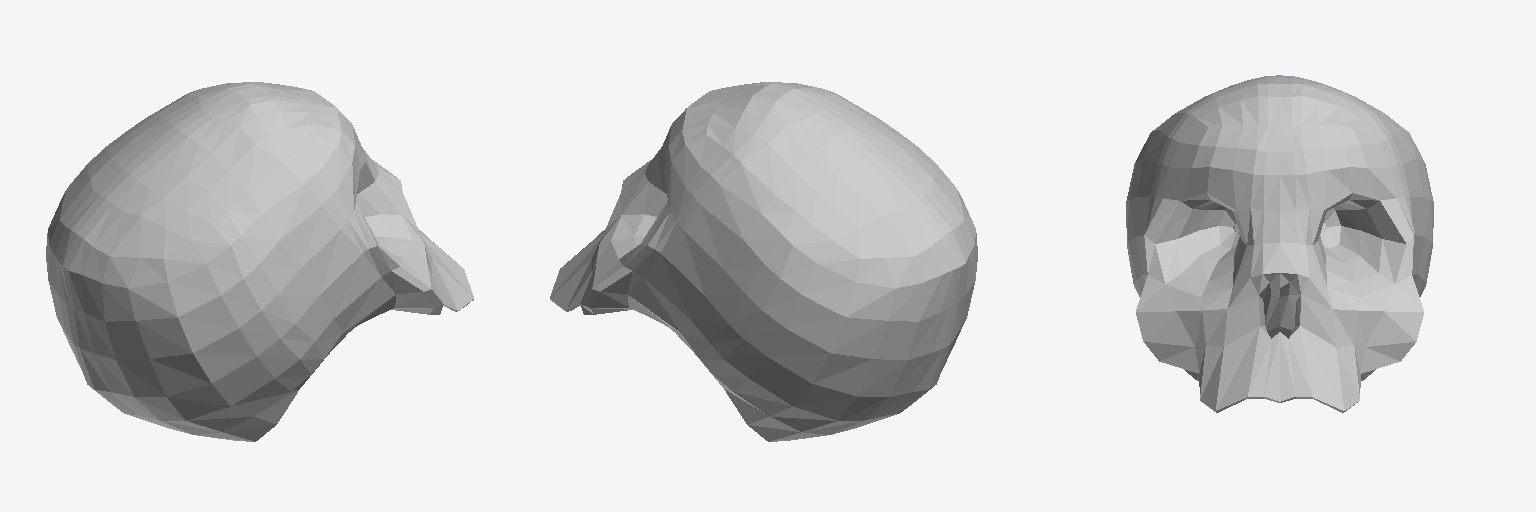
The model's file is skull.obj.
The picture shows the model from 3 angles: view 1: azimuth 30°, elevation 25°; view 2: azimuth 150°, elevation 25°; view 3: azimuth 270°, elevation 25°; orthographic projection.
Parts seen in each view (by area): view 1: Skull_LowPoly; view 2: Skull_LowPoly; view 3: Skull_LowPoly.
Boxes of the visible parts, <box> form: Skull_LowPoly: <box>46,82,473,441</box>; Skull_LowPoly: <box>550,82,977,441</box>; Skull_LowPoly: <box>1126,75,1433,412</box>.
Size of the model in its own units: 2292 by 1860 by 1577.